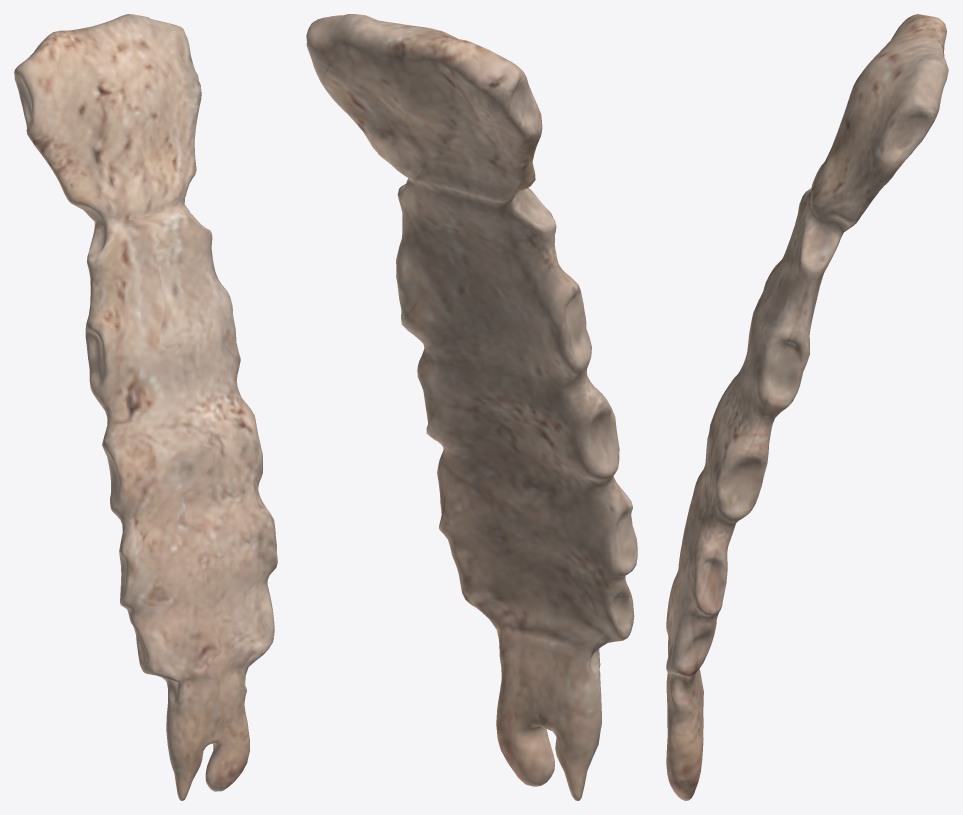
Rendered from Legs.006.obj.
3 views of the same model, side by side, from view 1: azimuth 30°, elevation 25°; view 2: azimuth 150°, elevation 25°; view 3: azimuth 270°, elevation 25° (orthographic). The views are drawn at different scales.
Visible parts, largest first — view 1: Legs.006_Arms.927; view 2: Legs.006_Arms.927; view 3: Legs.006_Arms.927.
Boxes of the visible parts, <box> form: Legs.006_Arms.927: <box>14,14,277,800</box>; Legs.006_Arms.927: <box>306,14,637,800</box>; Legs.006_Arms.927: <box>666,14,948,800</box>.
Bounding box in the file's own units: 0.2443 × 0.9416 × 0.3188.
